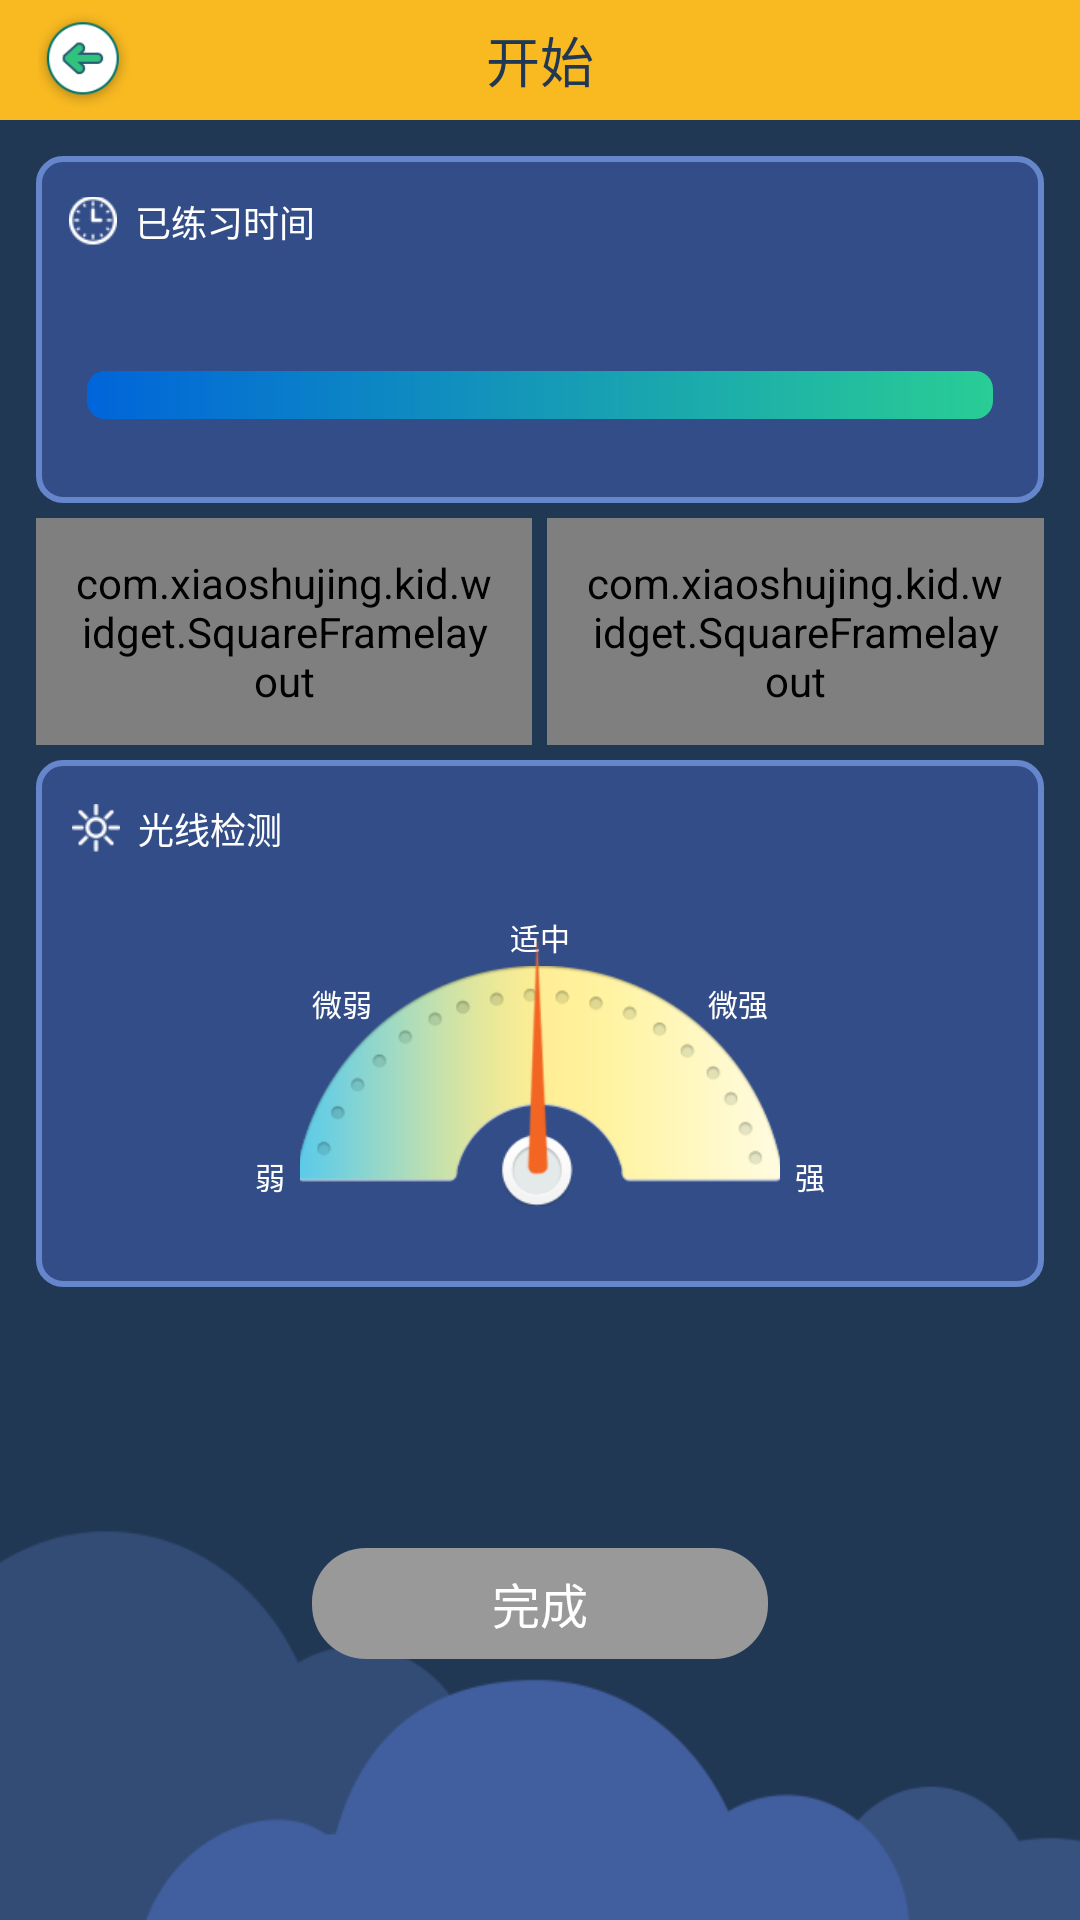

Icons on this 1080x1920 Android screen, each with its box as (x1, y1, x2, y2):
back: (45, 22, 121, 99)
time: (69, 197, 117, 245)
